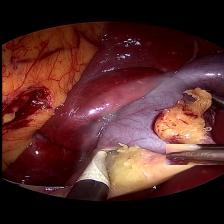Grasper: (165, 144, 224, 165)
Hook: (78, 145, 126, 186)
